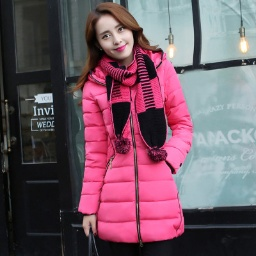face: (75, 1, 166, 65)
